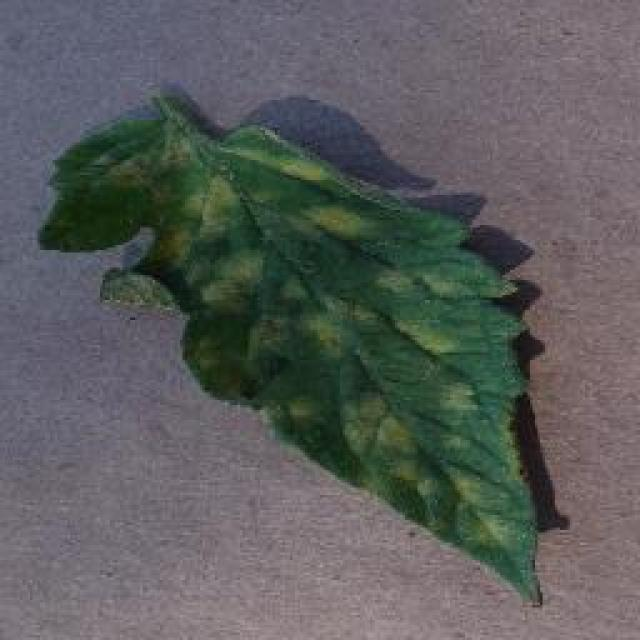Tomato___Leaf_Mold: (40, 92, 538, 598)
